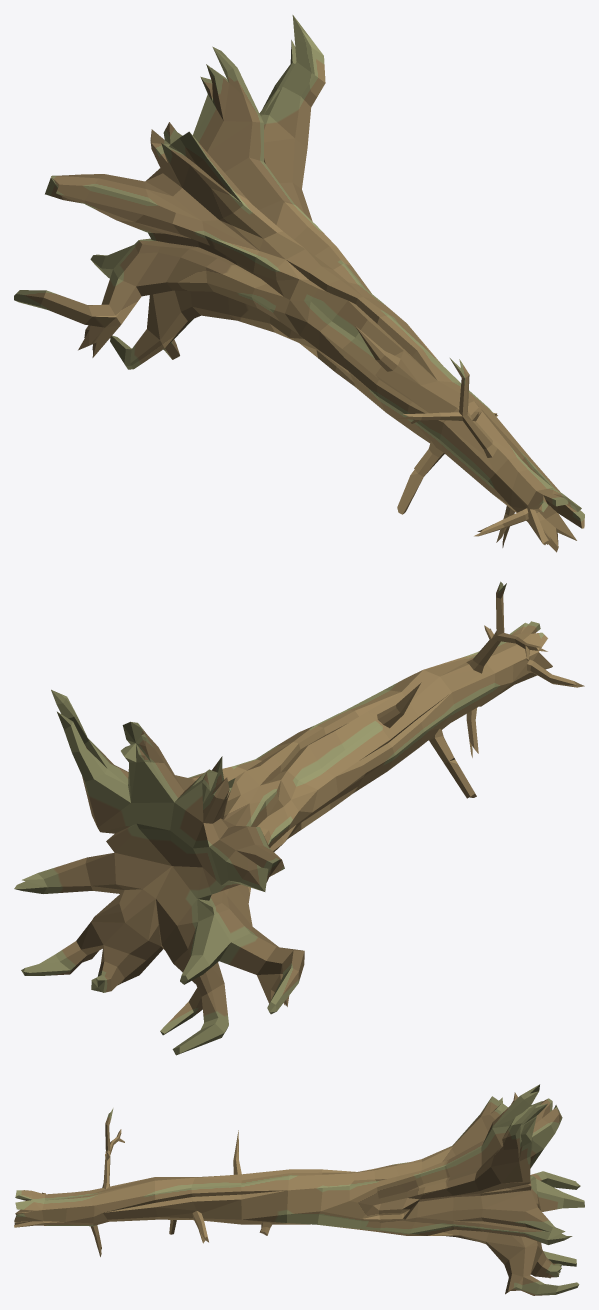
Rendered from SM_Prop_Swamp_Log_07.fbx.
3 views of the same model, one above another, from view 1: azimuth 30°, elevation 25°; view 2: azimuth 150°, elevation 25°; view 3: azimuth 270°, elevation 25° (orthographic). The views are drawn at different scales.
Visible parts, largest first — view 1: SM_Prop_Swamp_Log_07; view 2: SM_Prop_Swamp_Log_07; view 3: SM_Prop_Swamp_Log_07.
Part boxes in pixels (x1,y1,x2,y2): SM_Prop_Swamp_Log_07: (14, 15, 584, 552); SM_Prop_Swamp_Log_07: (14, 581, 584, 1055); SM_Prop_Swamp_Log_07: (14, 1084, 584, 1295).
Bounding box in the file's own units: 585 × 648 × 1546.
1 material, 1 textured.
